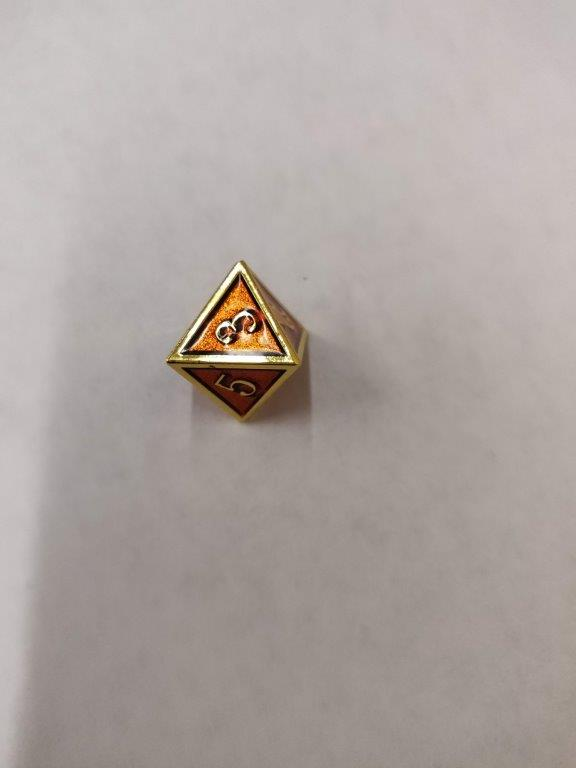d8-3: (166, 258, 310, 426)
